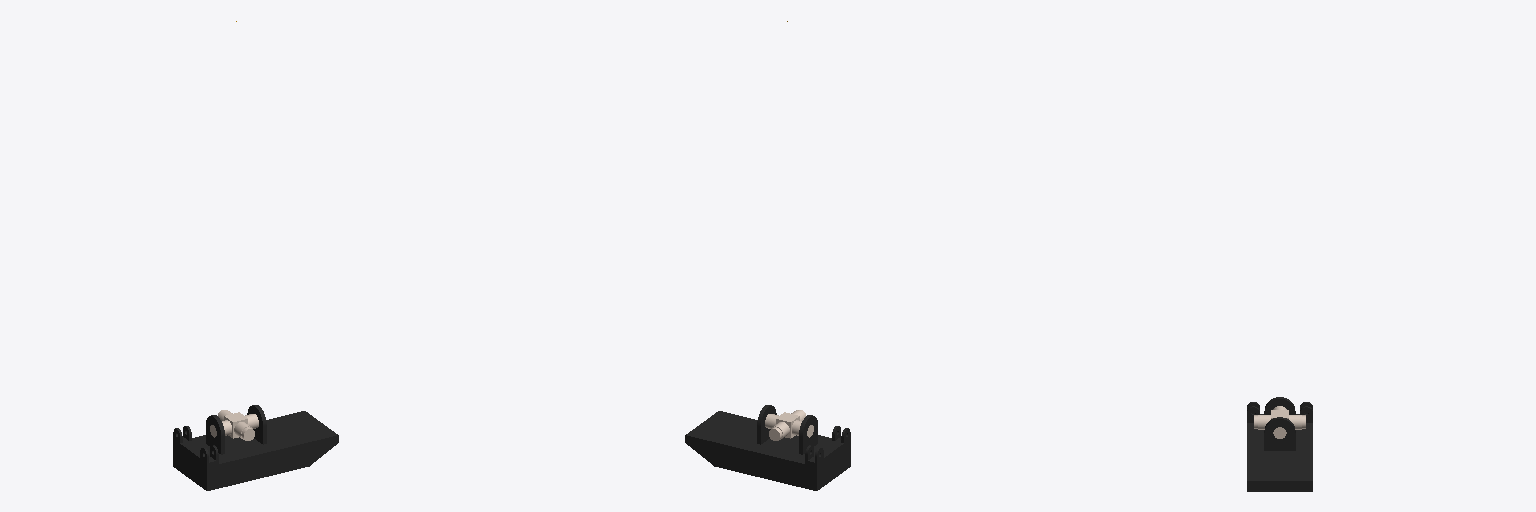
URDF robot description (legrobot_description):
<?xml version="1.0" ?>
<!-- =================================================================================== -->
<!-- |    This document was autogenerated by xacro from wwlambda_r3.xacro              | -->
<!-- |    EDITING THIS FILE BY HAND IS NOT RECOMMENDED                                 | -->
<!-- =================================================================================== -->
<robot name="legrobot_description">
  <material name="black">
    <color rgba="0.0 0.0 0.0 1.0"/>
  </material>
  <material name="blue">
    <color rgba="0.0 0.0 0.8 1.0"/>
  </material>
  <material name="green">
    <color rgba="0.0 0.8 0.0 1.0"/>
  </material>
  <material name="grey">
    <color rgba="0.2 0.2 0.2 1.0"/>
  </material>
  <material name="silver">
    <color rgba="0.9137254901960784 0.9137254901960784 0.8470588235294118 1.0"/>
  </material>
  <material name="orange">
    <color rgba="1.0 0.4235294117647059 0.0392156862745098 1.0"/>
  </material>
  <material name="brown">
    <color rgba="0.8705882352941177 0.8117647058823529 0.7647058823529411 1.0"/>
  </material>
  <material name="red">
    <color rgba="0.8 0.0 0.0 1.0"/>
  </material>
  <material name="white">
    <color rgba="1.0 1.0 1.0 1.0"/>
  </material>

  <link name="base">
    <visual>
      <origin rpy="0 0 0" xyz="0 0 0"/>
      <geometry>
        <box size="0.001 0.001 0.001"/>
      </geometry>
    </visual>
  </link>
  <joint name="floating_base" type="fixed">
    <origin rpy="0 0 0" xyz="0 0 0"/>
    <parent link="base"/>
    <child link="thigh"/>
  </joint>
  <link name="thigh">
    <visual>
      <origin rpy="0 0 0" xyz="0 0 0"/>
      <geometry>
        <mesh filename="../meshes/legrobot_thigh.stl" scale="1 1 1"/>
      </geometry>
      <material name="grey"/>
    </visual>
    <inertial>
      <origin rpy="0 0 0" xyz="0.0199638 0.0159254 -0.0998399"/>
      <mass value="1.7178"/>
      <inertia ixx="233110591.4e-9" ixy="968819.1e-9" ixz="-3568816.6e-9" iyy="23363907.1e-9" iyz="-2968153.2e-9" izz="3630587.2e-9"/>
    </inertial>
  </link>
  <joint name="imu_joint" type="fixed">
    <parent link="thigh"/>
    <child link="imu_link"/>
    <origin rpy="0 0 0" xyz="0 0 0"/>
  </joint>
  <link name="imu_link">
    <inertial>
      <mass value="0.001"/>
      <origin rpy="0 0 0" xyz="0 0 0"/>
      <inertia ixx="0.0001" ixy="0" ixz="0" iyy="0.000001" iyz="0" izz="0.0001"/>
    </inertial>
    <visual>
      <origin rpy="0 0 0" xyz="0 0 0"/>
      <geometry>
        <box size="0.001 0.001 0.001"/>
      </geometry>
      <material name="red"/>
    </visual>
  </link>
  <joint name="knee_joint" type="revolute">
    <origin rpy="0 0 0" xyz="0.0 -0.0295 -0.19952"/>
    <parent link="thigh"/>
    <child link="calf"/>
    <axis xyz="0 1 0"/>
    <dynamics damping="0.1" friction="0.0"/>
    <limit effort="120.0" lower="0.0" upper="2.5" velocity="9.425"/>
  </joint>
  <link name="calf">
    <visual>
      <origin rpy="0.0 0 0" xyz="0 0 0"/>
      <geometry>
        <mesh filename="../meshes/legrobot_calf.stl" scale="1 1 1"/>
      </geometry>
      <material name="orange"/>
    </visual>
    <inertial>
      <origin rpy="0 0 0" xyz="0.0166018 0.0285984 -0.1113366"/>
      <mass value="2.0597"/>
      <inertia ixx="38867218.4e-9" ixy="1008678.9e-9" ixz="-4163058.0e-9" iyy="37969295.5e-9" iyz="-7022148.2e-9" izz="4035850.3e-9"/>
    </inertial>
  </link>
  <joint name="ankle_y_joint" type="revolute">
    <origin rpy="0 0 0" xyz="0 0.005 -0.300"/>
    <parent link="calf"/>
    <child link="ankle"/>
    <axis xyz="0 1 0"/>
    <dynamics damping="0.1" friction="0.0"/>
    <limit effort="36.0" lower="-1.0" upper="1.0" velocity="20.944"/>
  </joint>
  <link name="ankle">
    <visual>
      <origin rpy="0 0 0" xyz="0 0.0245 0"/>
      <geometry>
        <mesh filename="../meshes/legrobot_ankle.stl" scale="1 1 1"/>
      </geometry>
      <material name="brown"/>
    </visual>
    <inertial>
      <origin rpy="0 0 0" xyz="0.0 0.0 0.0"/>
      <mass value="0.0655"/>
      <inertia ixx="11471.8e-9" ixy="0" ixz="0" iyy="11471.8e-9" iyz="0" izz="19974.9e-9"/>
    </inertial>
  </link>
  <joint name="ankle_x_joint" type="revolute">
    <origin rpy="0 0.0 0" xyz="0.0245 0.0245 0"/>
    <parent link="ankle"/>
    <child link="foot"/>
    <axis xyz="1 0 0"/>
    <joint_properties damping="0.1" friction="0.0"/>
    <limit effort="36.0" lower="-1.0" upper="1.0" velocity="20.944"/>
  </joint>
  <link name="foot">
    <visual>
      <origin rpy="0 0 0" xyz="0 0 0"/>
      <geometry>
        <mesh filename="../meshes/legrobot_foot.stl" scale="1 1 1"/>
      </geometry>
      <material name="grey"/>
    </visual>
    <collision>
      <origin rpy="0 0 0" xyz="-0.01775 0 -0.0375"/>
      <geometry>
        <box size="0.1325 0.075 0.030"/>
      </geometry>
    </collision>
    <inertial>
      <origin rpy="0 0 0" xyz="-0.0117107 0.0 -0.0324054"/>
      <mass value="0.4012"/>
      <inertia ixx="663942.4e-9" ixy="0" ixz="127841.8e-9" iyy="1418117.9e-9" iyz="0" izz="1094893.8e-9"/>
    </inertial>
  </link>
</robot>

--- Render facts (derived) ---
3 views of the same robot in one strip: view 1: azimuth 30°, elevation 25°; view 2: azimuth 150°, elevation 25°; view 3: azimuth 270°, elevation 25° (orthographic).
Robot: legrobot_description — 6 links, 5 joints (3 revolute, 2 fixed); root link base; default pose: every joint at zero.
Visible links, largest first — view 1: foot, ankle; view 2: foot, ankle; view 3: foot, ankle.
Link boxes in pixels (x1,y1,x2,y2): foot: (173, 405, 338, 490); ankle: (210, 410, 258, 440); foot: (685, 405, 850, 490); ankle: (765, 410, 813, 440); foot: (1247, 397, 1312, 491); ankle: (1254, 406, 1305, 438).
Bounding box of the posed robot: 0.17 × 0.075 × 0.5525 m (x, y, z).
Meshes: 4 distinct files referenced, 2 mesh visuals loaded (2 binary STL); not drawn: 2 (reference not matched to a file when rendering).
